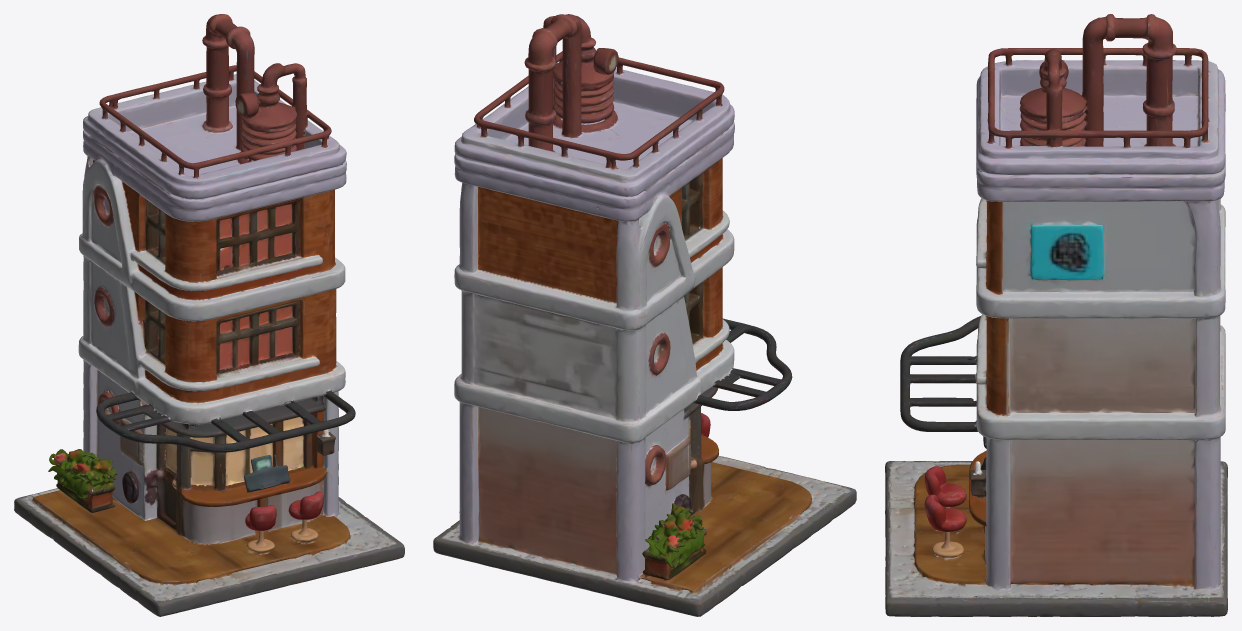
Rendered from hotel.glb.
3 renders of one model, left to right at view 1: azimuth 30°, elevation 25°; view 2: azimuth 150°, elevation 25°; view 3: azimuth 270°, elevation 25°, orthographic. The views are drawn at different scales.
Size of the model in its own units: 0.544 by 1 by 0.555.
1 material, 1 textured.
